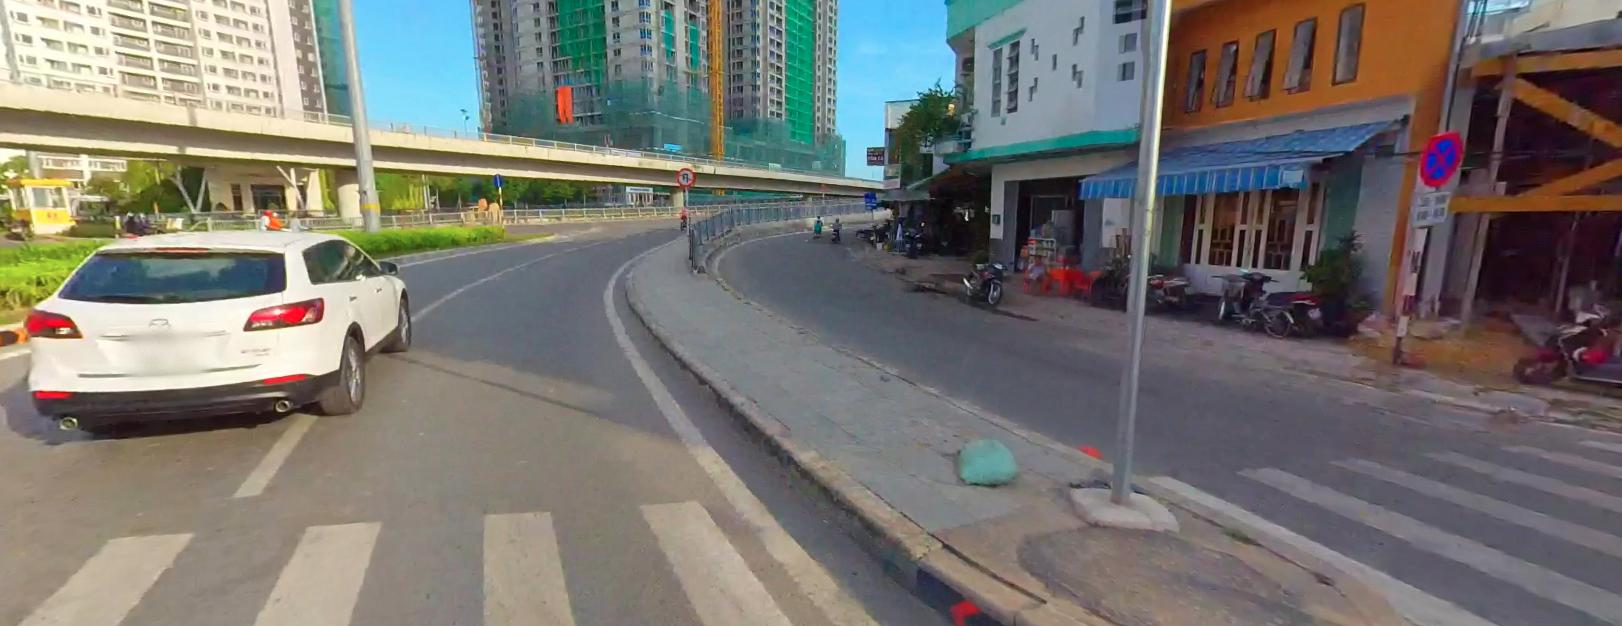Cam dung va do: (1421, 129, 1463, 189)
Cam re: (675, 166, 696, 186)
Hieu lenh: (493, 172, 503, 185)
